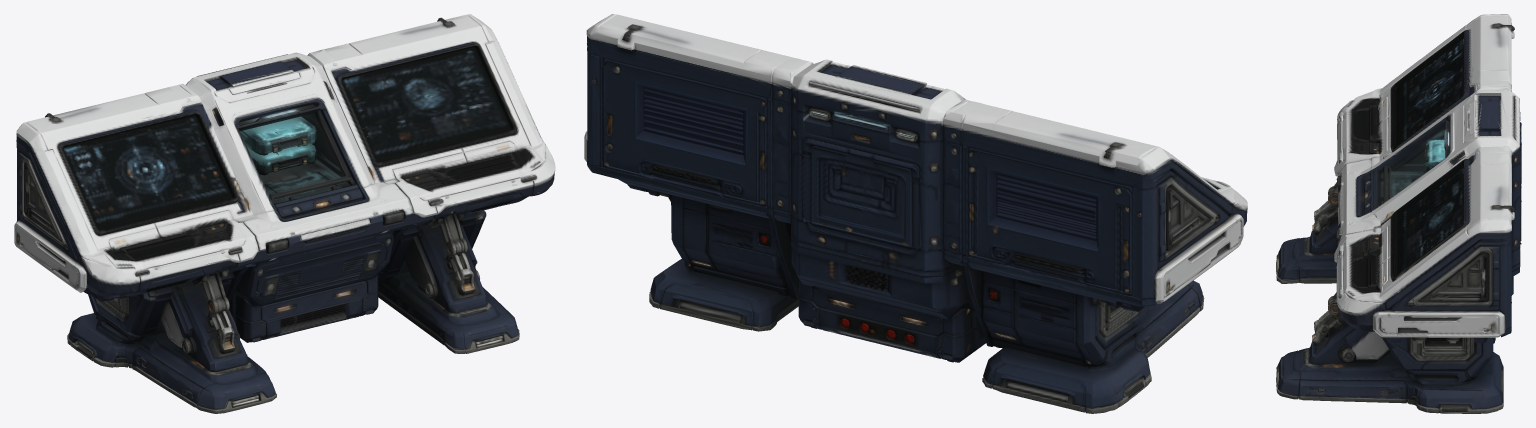
The model's file is hi3d-console-near.glb.
3 views of the same model, side by side, from view 1: azimuth 30°, elevation 25°; view 2: azimuth 150°, elevation 25°; view 3: azimuth 270°, elevation 25° (orthographic). The views are drawn at different scales.
Parts seen in each view (by area): view 1: world; view 2: world; view 3: world.
Part boxes in pixels (<box>): world: <box>14,14,555,413</box>; world: <box>584,14,1247,413</box>; world: <box>1276,14,1521,413</box>.
Size of the model in its own units: 2.8 by 1.28 by 1.33.
Materials: 1 (1 with a texture image).
